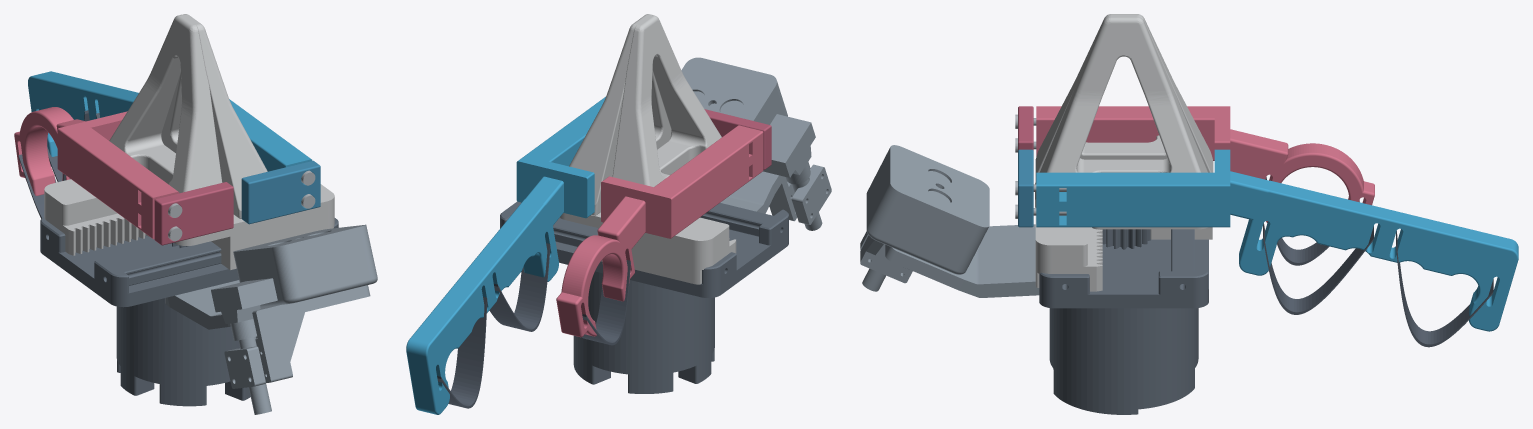
Rendered from yam_closed.glb.
3 renders of one model, left to right at view 1: azimuth 30°, elevation 25°; view 2: azimuth 150°, elevation 25°; view 3: azimuth 270°, elevation 25°, orthographic. The views are drawn at different scales.
Parts seen in each view (by area): view 1: gripper_0, camera_3, tip_left_1, right_thumb_lead_4, tip_right_2, right_finger_lead_5, positive_jaw_cap_7, negative_jaw_cap_6, reference_thumb_strap_8; view 2: gripper_0, right_finger_lead_5, right_thumb_lead_4, camera_3, tip_left_1, tip_right_2, reference_finger_strap_lower_10, reference_finger_strap_upper_9, reference_thumb_strap_8, negative_jaw_cap_6; view 3: right_finger_lead_5, gripper_0, camera_3, tip_right_2, right_thumb_lead_4, tip_left_1, reference_finger_strap_upper_9, reference_finger_strap_lower_10, positive_jaw_cap_7, reference_thumb_strap_8, negative_jaw_cap_6.
Boxes of the visible parts, <box> form: gripper_0: <box>40,217,338,406</box>; camera_3: <box>165,224,377,414</box>; tip_left_1: <box>109,14,334,270</box>; right_thumb_lead_4: <box>14,107,179,239</box>; tip_right_2: <box>44,14,267,255</box>; right_finger_lead_5: <box>28,71,312,171</box>; positive_jaw_cap_7: <box>241,160,320,224</box>; negative_jaw_cap_6: <box>154,182,233,245</box>; reference_thumb_strap_8: <box>18,154,66,218</box>; gripper_0: <box>500,201,788,393</box>; right_finger_lead_5: <box>406,96,605,414</box>; right_thumb_lead_4: <box>556,125,763,337</box>; camera_3: <box>681,57,831,230</box>; tip_left_1: <box>612,15,721,186</box>; tip_right_2: <box>560,14,736,284</box>; reference_finger_strap_lower_10: <box>437,297,487,408</box>; reference_finger_strap_upper_9: <box>489,243,550,331</box>; reference_thumb_strap_8: <box>582,260,630,345</box>; negative_jaw_cap_6: <box>704,109,771,169</box>; right_finger_lead_5: <box>1036,149,1518,331</box>; gripper_0: <box>1039,229,1208,414</box>; camera_3: <box>860,145,1039,297</box>; tip_right_2: <box>1035,16,1212,239</box>; right_thumb_lead_4: <box>1036,106,1374,222</box>; tip_left_1: <box>1035,14,1213,291</box>; reference_finger_strap_upper_9: <box>1263,223,1373,314</box>; reference_finger_strap_lower_10: <box>1396,231,1493,347</box>; positive_jaw_cap_7: <box>1018,149,1033,227</box>; reference_thumb_strap_8: <box>1265,177,1359,265</box>; negative_jaw_cap_6: <box>1018,106,1033,150</box>.
Bounding box in the file's own units: 0.102 × 0.1552 × 0.252.
